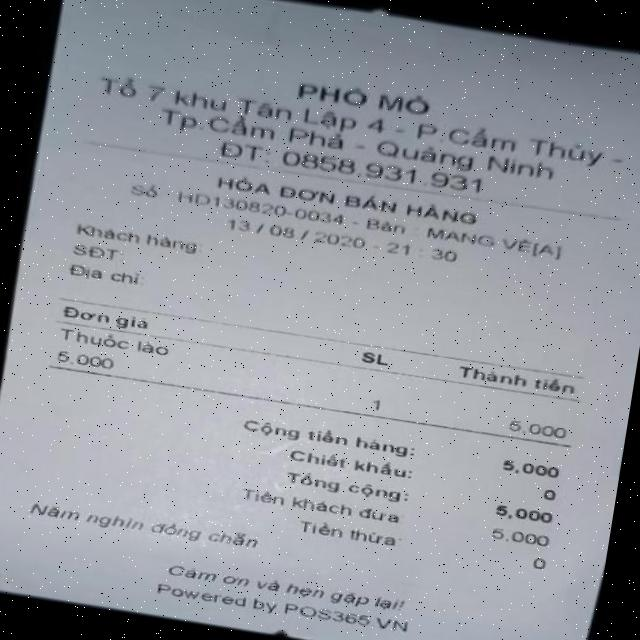Date: (220, 213, 374, 260)
Store_Name: (234, 56, 476, 132)
amount_number: (481, 498, 562, 529)
label_total: (283, 467, 408, 507)
